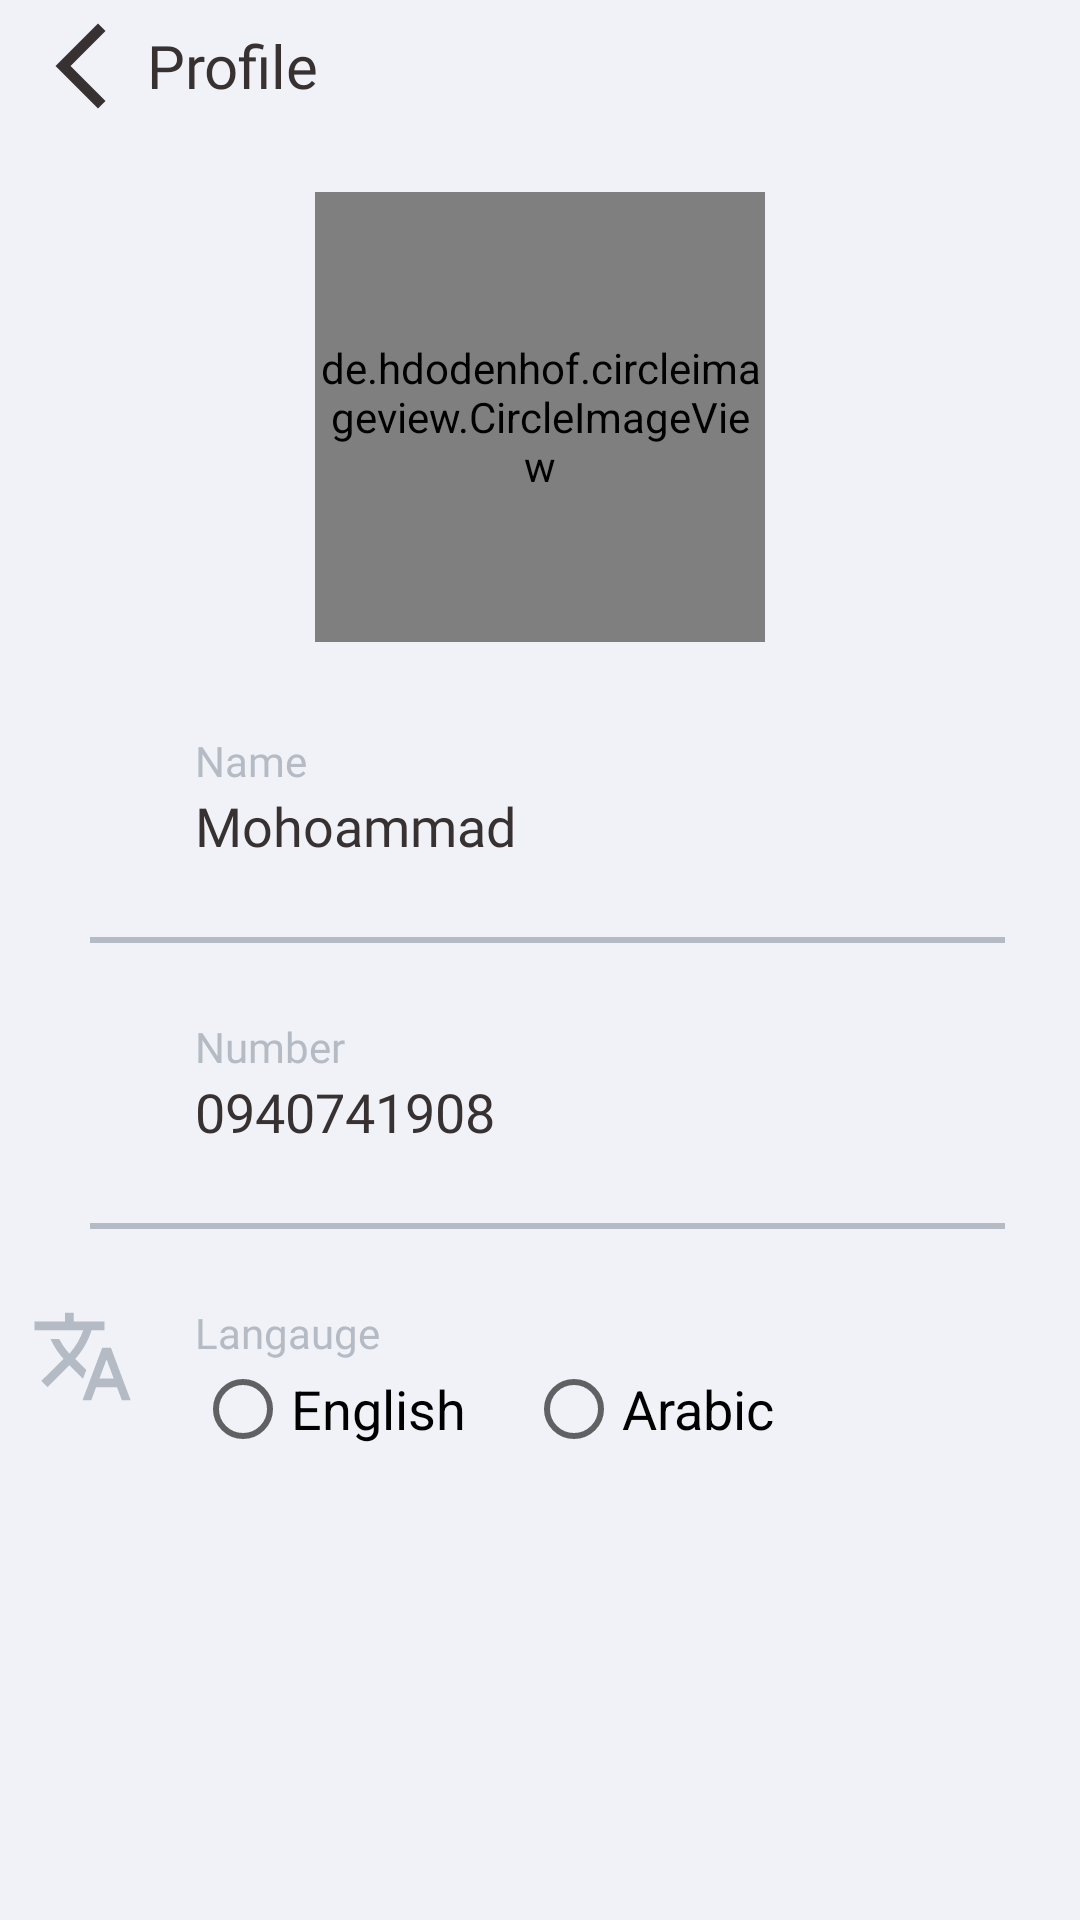

Screen size 1080 x 1920. Icon name, then its center in pixels as (x=x, y=y):
back: (x=80, y=66)
